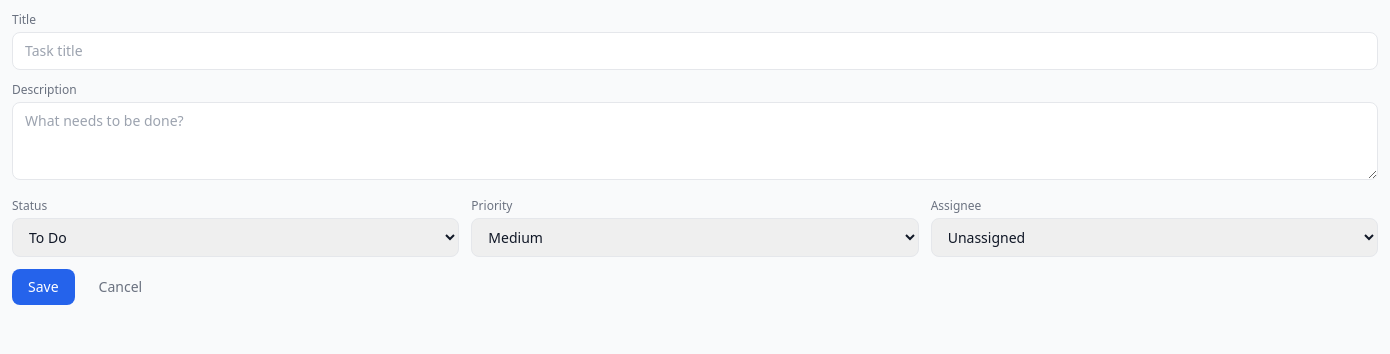
TaskForm › falls back to a generic message when the rejected error has no message
The image size is (1390, 354).
In the field labelled "Title": (695, 51) [12, 32, 1378, 70], type "New task"
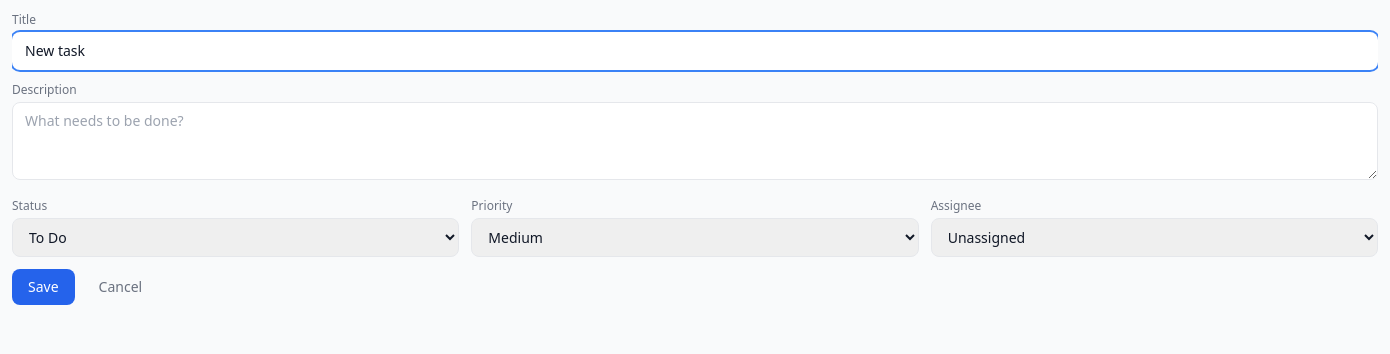
Click the button "Save": click(43, 287) [12, 269, 75, 305]
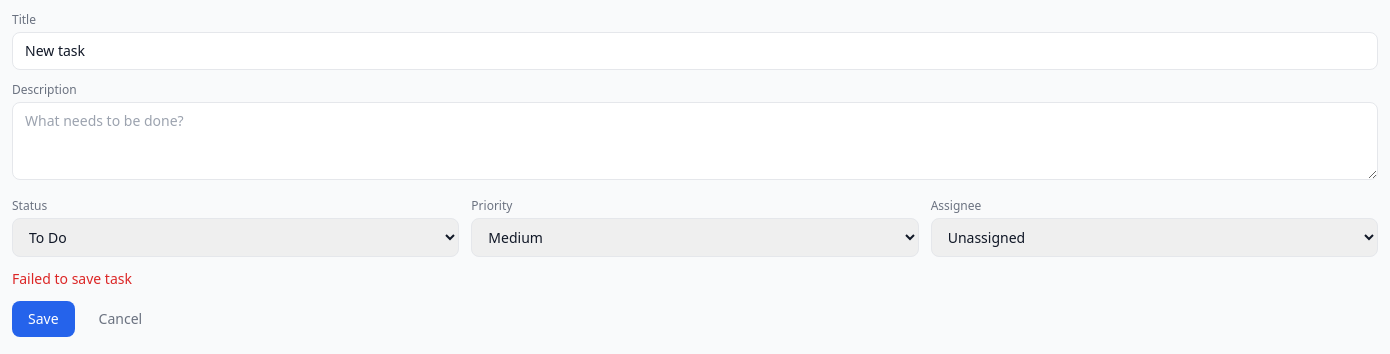
Check: the text "Failed to save task" is shown, box [12, 269, 132, 288]
